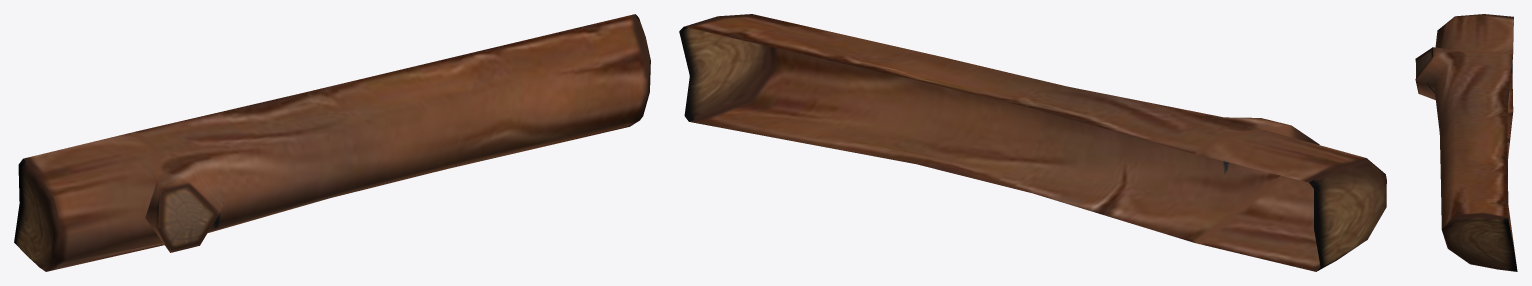
The model's file is Window_Log 1.fbx.
The picture shows the model from 3 angles, left to right: view 1: azimuth 30°, elevation 25°; view 2: azimuth 150°, elevation 25°; view 3: azimuth 270°, elevation 25°; orthographic projection. The views are drawn at different scales.
Parts seen in each view (by area): view 1: pCylinder1; view 2: pCylinder1; view 3: pCylinder1.
Part boxes in pixels (x1,y1,x2,y2): pCylinder1: (14,14,650,271); pCylinder1: (679,14,1386,271); pCylinder1: (1415,14,1517,271).
Bounding box in the file's own units: 5.16 × 0.6823 × 1.06.
